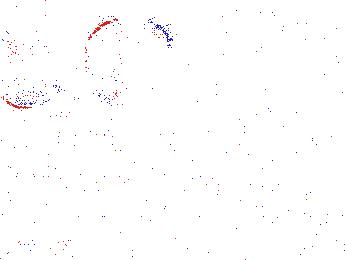moon jellyfish: (83, 17, 169, 99), (255, 23, 343, 71), (1, 34, 55, 109)
